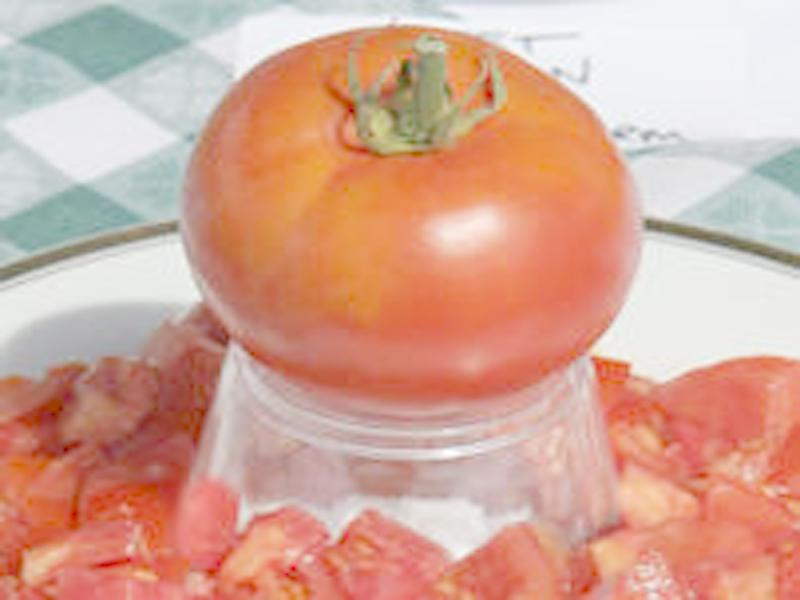Tomato: (178, 21, 646, 405)
